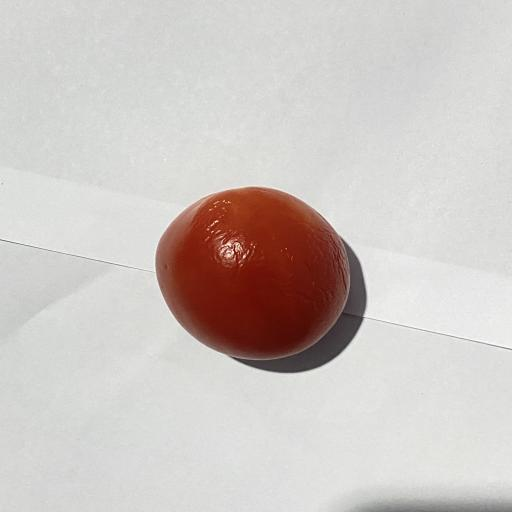spoiled: (156, 187, 350, 359)
